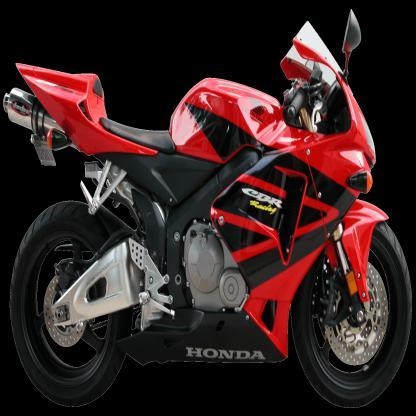Motorcycle: (1, 10, 415, 409)
